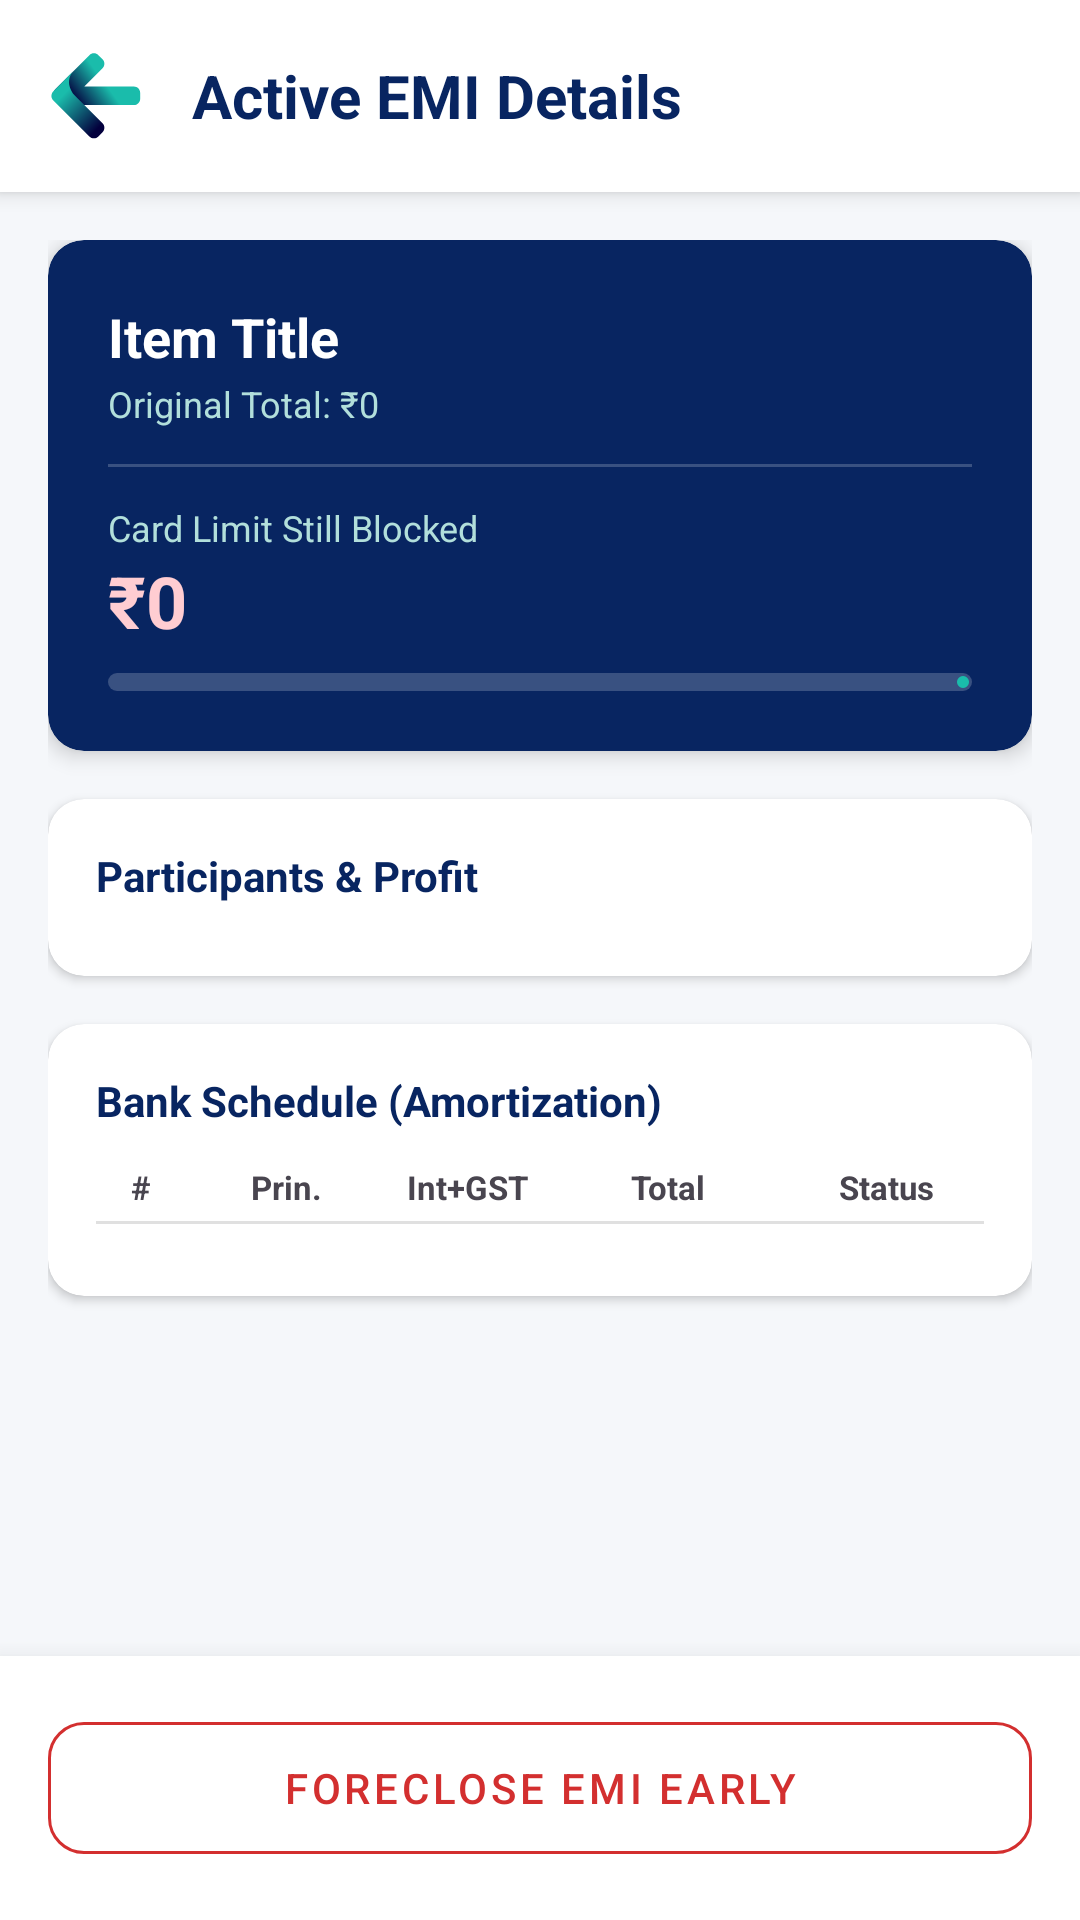

Locate icon controls on the screen. Image size 1080x1920, boxes as (x1, y1, x2, y2).
back: (51, 53, 141, 139)
